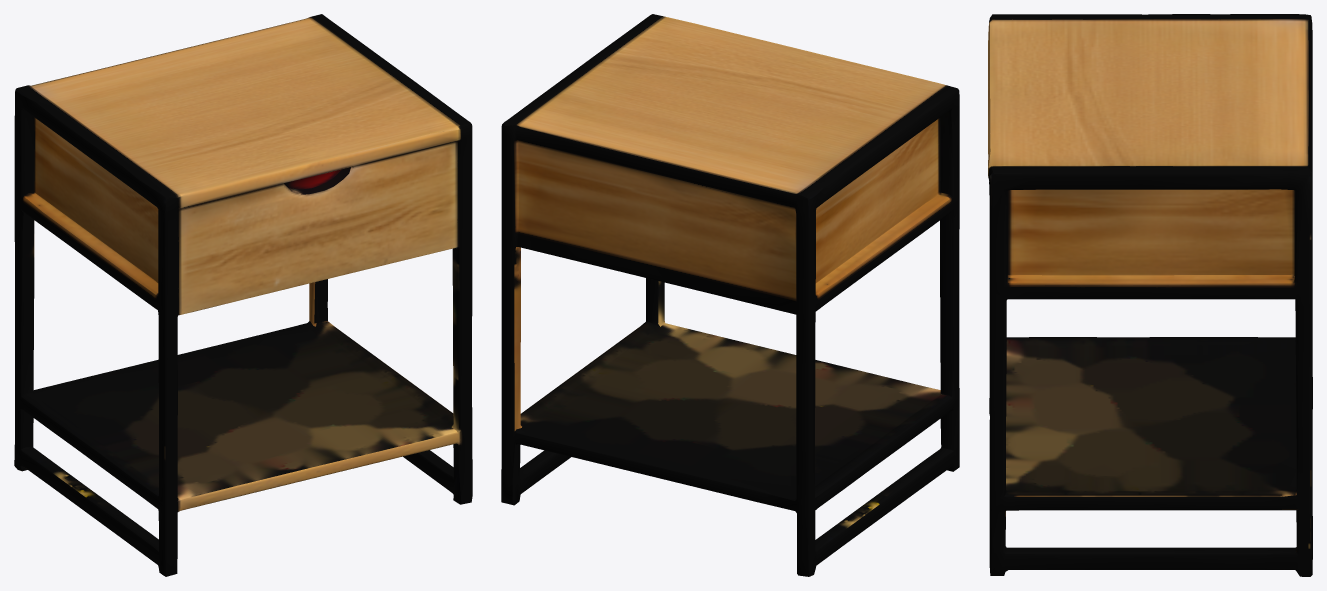
The model's file is TableChevetSalon1_3D_textured.glb.
The picture shows the model from 3 angles, left to right: view 1: azimuth 30°, elevation 25°; view 2: azimuth 150°, elevation 25°; view 3: azimuth 270°, elevation 25°; orthographic projection. The views are drawn at different scales.
Parts seen in each view (by area): view 1: temp_mesh.ply; view 2: temp_mesh.ply; view 3: temp_mesh.ply.
Boxes of the visible parts, box(x1,y1,x2,y2) form: temp_mesh.ply: box(14, 14, 472, 576); temp_mesh.ply: box(501, 14, 959, 576); temp_mesh.ply: box(988, 14, 1312, 576).
Size of the model in its own units: 1.68 by 1.97 by 1.44.
Materials: 1 (1 with a texture image).
